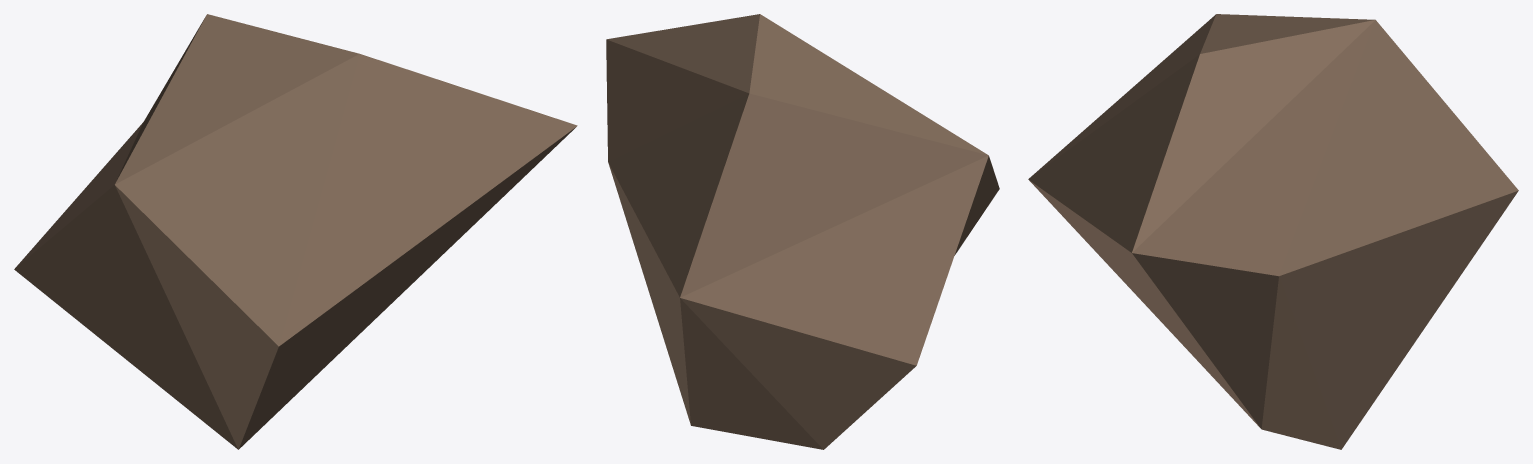
Rendered from RoundRock2.fbx.
3 renders of one model, left to right at view 1: azimuth 30°, elevation 25°; view 2: azimuth 150°, elevation 25°; view 3: azimuth 270°, elevation 25°, orthographic. The views are drawn at different scales.
Parts seen in each view (by area): view 1: RoundRock2; view 2: RoundRock2; view 3: RoundRock2.
Part boxes in pixels (<box>): RoundRock2: <box>14,14,577,449</box>; RoundRock2: <box>606,14,999,449</box>; RoundRock2: <box>1028,14,1518,449</box>.
Size of the model in its own units: 43.6 by 37.53 by 39.37.
